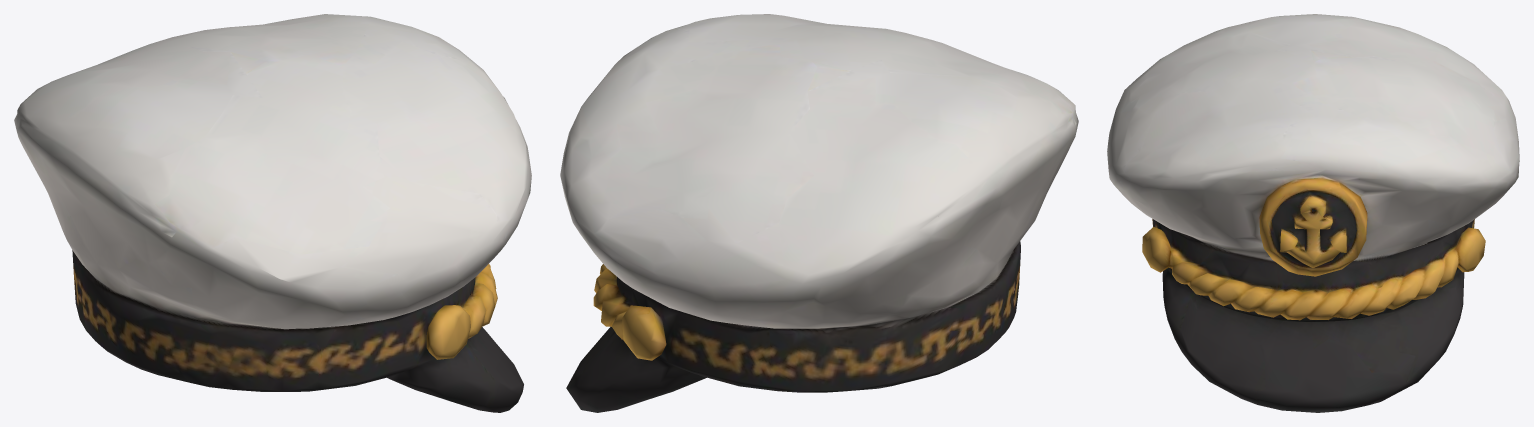
Rendered from hat-captain.glb.
The picture shows the model from 3 angles, left to right: view 1: azimuth 30°, elevation 25°; view 2: azimuth 150°, elevation 25°; view 3: azimuth 270°, elevation 25°; orthographic projection. The views are drawn at different scales.
Parts seen in each view (by area): view 1: tripo_node_5527ba42-5121-47d5-9bcf-bf9ba0feb232; view 2: tripo_node_5527ba42-5121-47d5-9bcf-bf9ba0feb232; view 3: tripo_node_5527ba42-5121-47d5-9bcf-bf9ba0feb232.
Part boxes in pixels (x1,y1,x2,y2): tripo_node_5527ba42-5121-47d5-9bcf-bf9ba0feb232: [14, 14, 531, 412]; tripo_node_5527ba42-5121-47d5-9bcf-bf9ba0feb232: [560, 14, 1078, 412]; tripo_node_5527ba42-5121-47d5-9bcf-bf9ba0feb232: [1107, 14, 1519, 412].
Bounding box in the file's own units: 0.9056 × 0.7391 × 1.
Materials: 1 (1 with a texture image).
